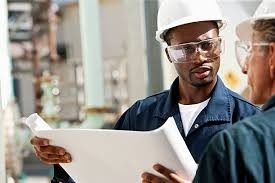helmet: (150, 1, 233, 44), (235, 1, 275, 41)
person with partial safety: (143, 1, 235, 130), (235, 2, 275, 121)
